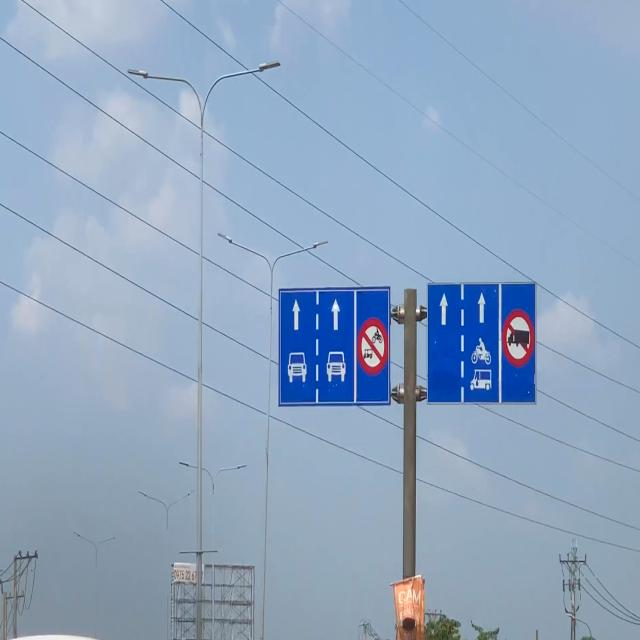Cam con lai: (357, 316, 389, 378), (502, 310, 535, 366)
